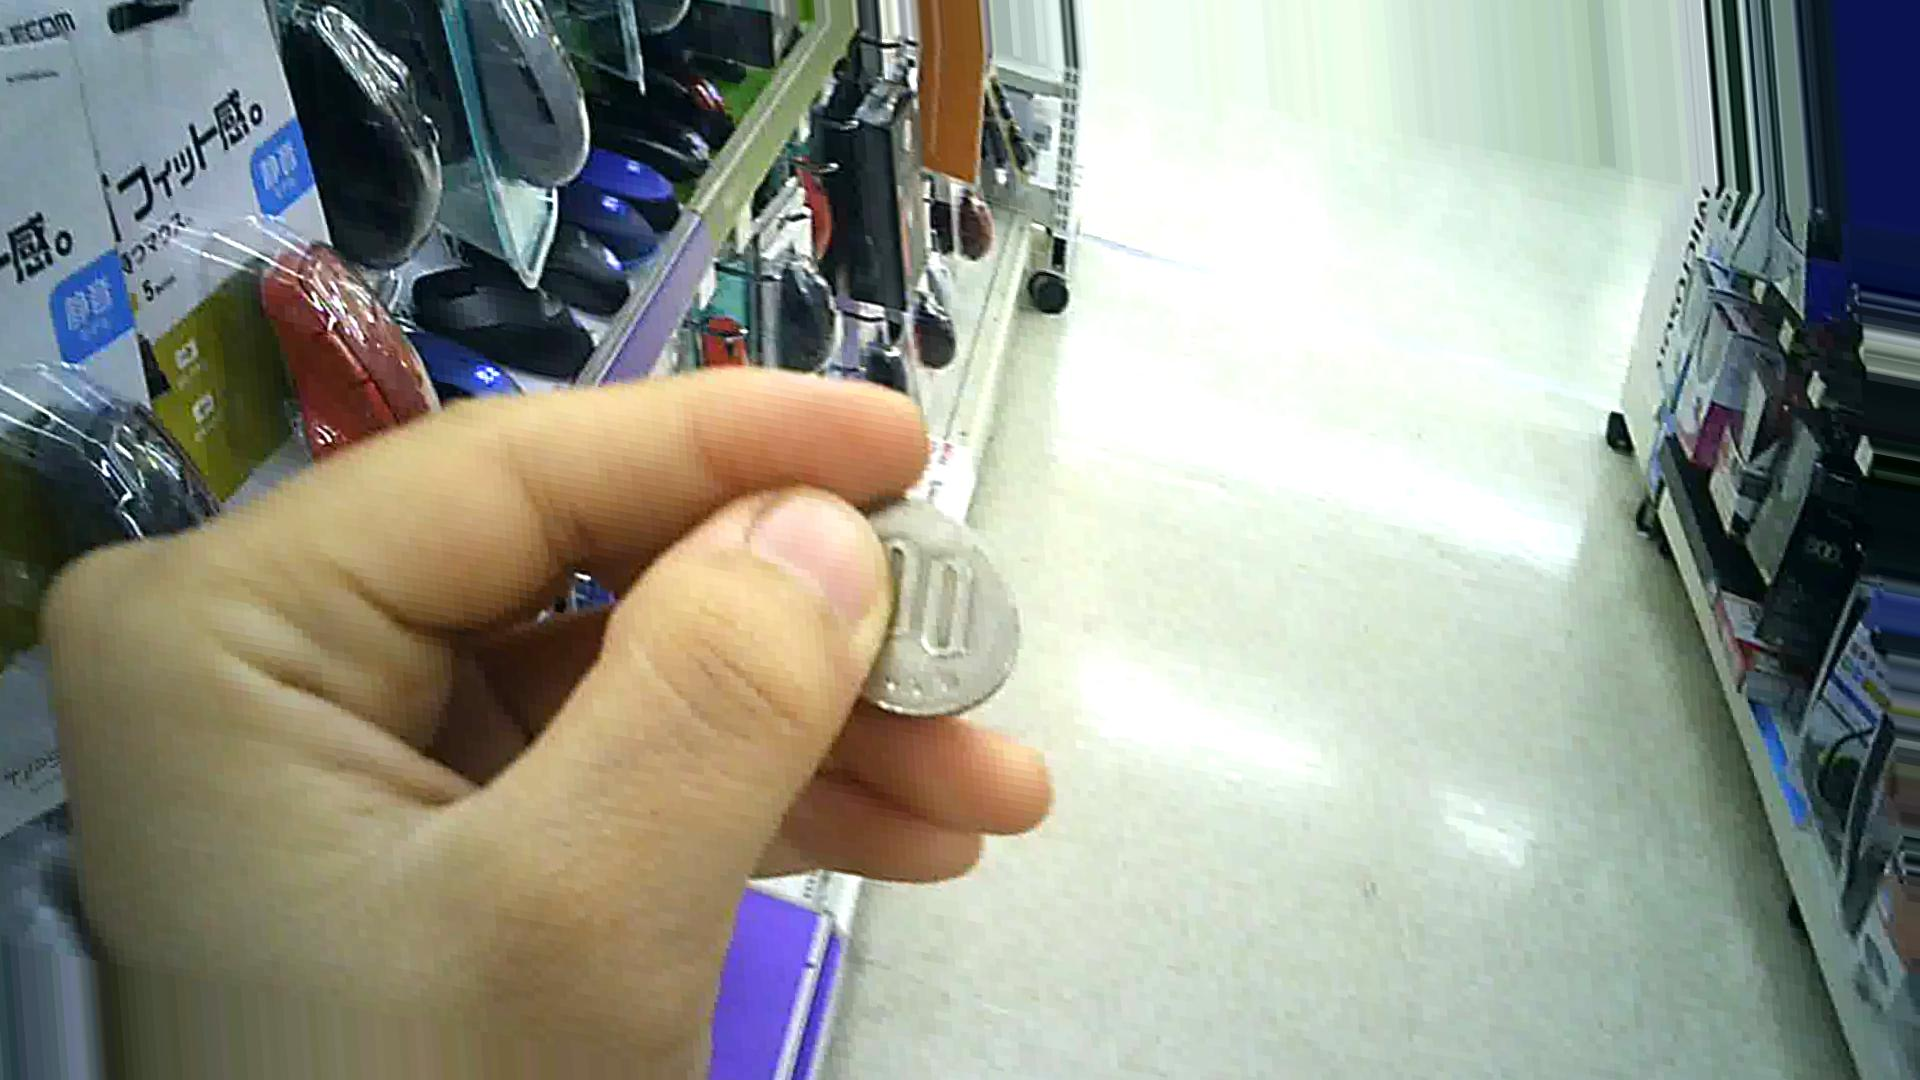100 Yen: (789, 469, 1029, 729)
